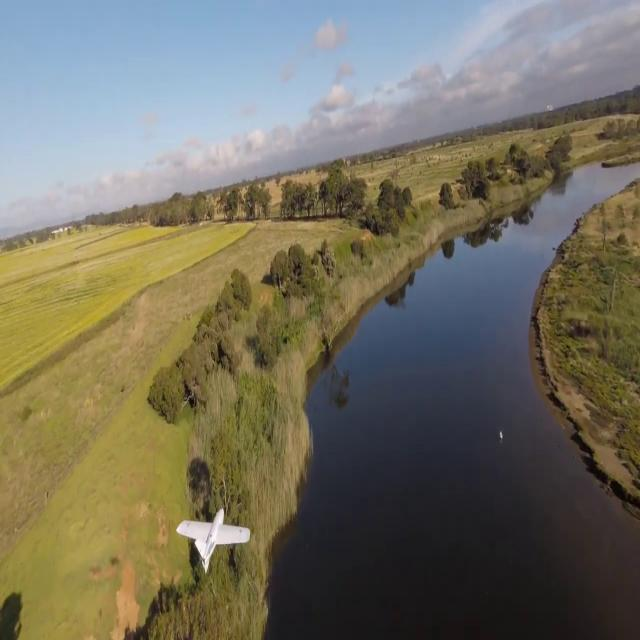iha: (209, 515, 221, 547)
